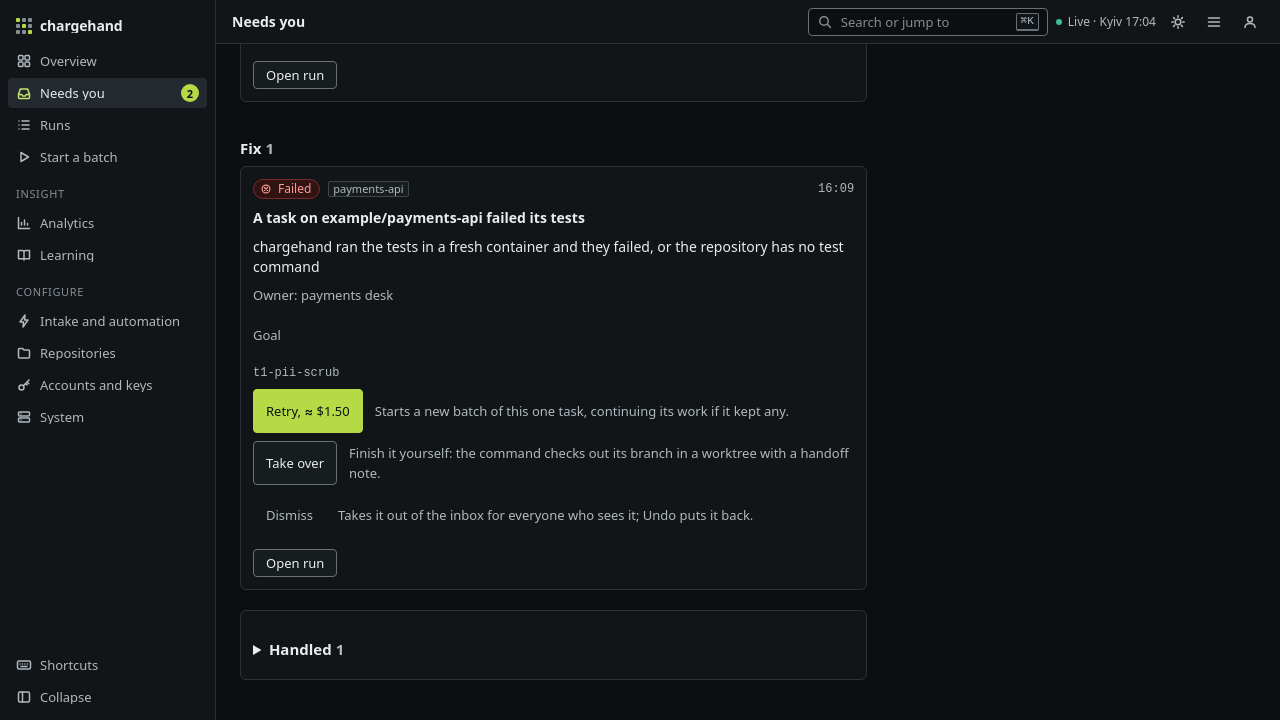
it: decision cards (ADR 0085) › will not send an option to anything but a route of the API
This screenshot has width=1280, height=720.
(page scrolled)
Click the button with aria-label "Retry, ≈ $1.50 t1-pii-scrub": (308, 411) left=253, top=389, right=363, bottom=433
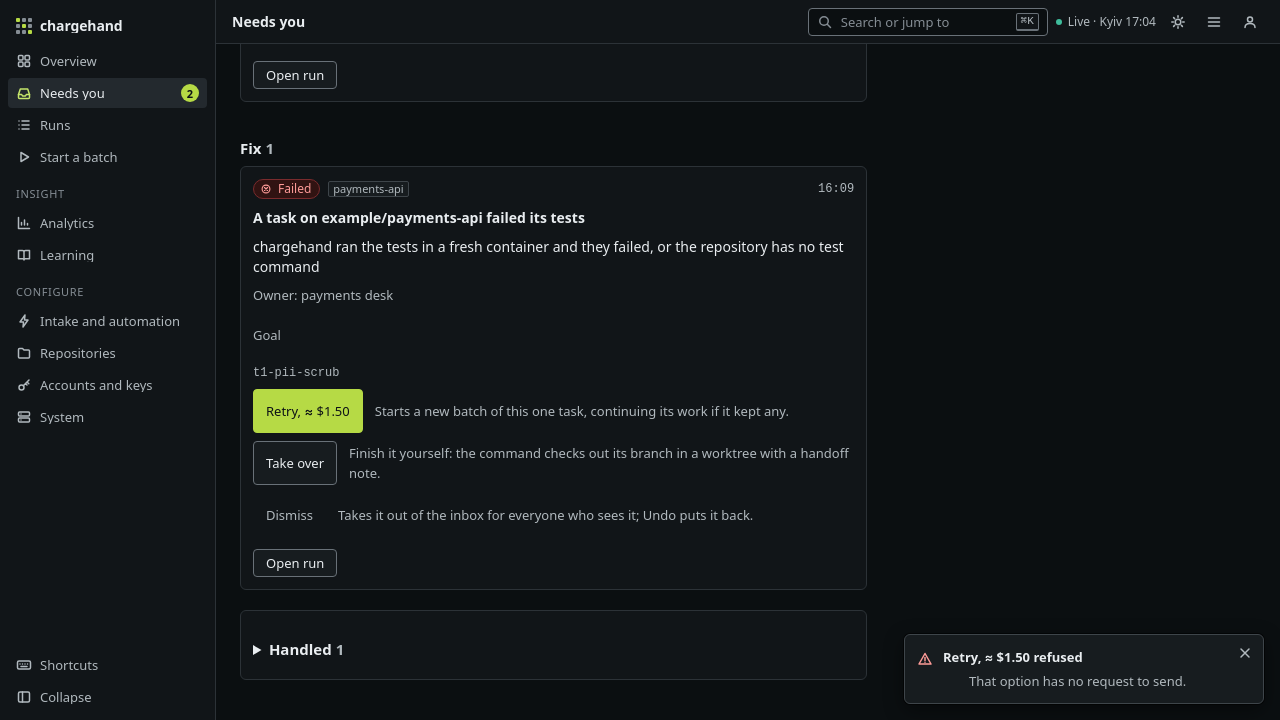
expect the text "Retry, ≈ $1.50 refused" is shown: met, box left=943, top=648, right=1083, bottom=666
